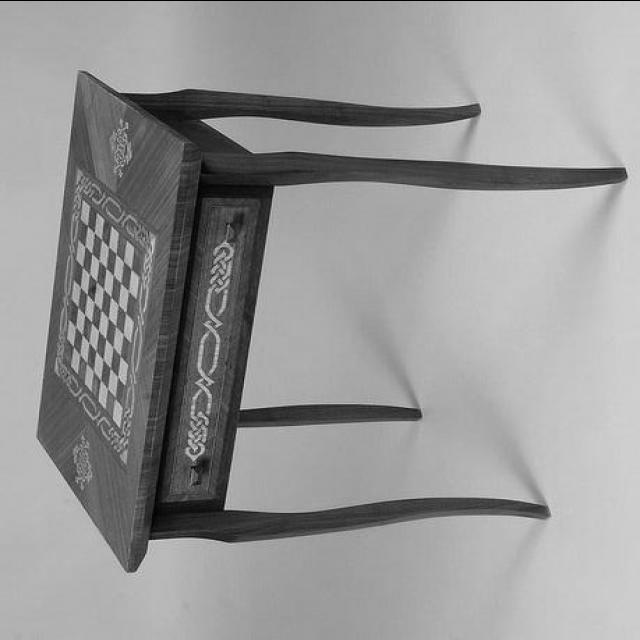table: (31, 69, 627, 572)
